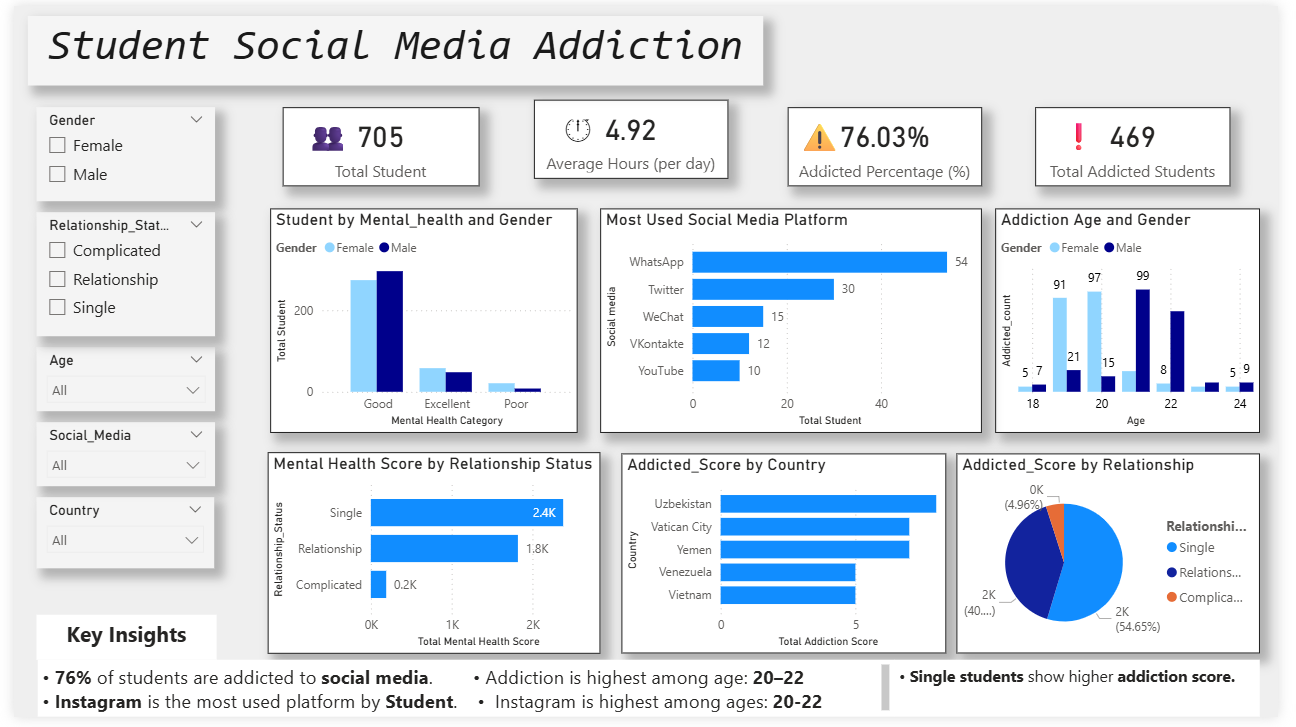

What the dashboard file says about the page in this screenshot:
{"tool":"powerbi","page":{"name":"Page 1","canvas":[1280,720],"ordinal":0},"visuals":[{"type":"card","fields":{"Values":["CountNonNull(Students_Social_Media_Addiction.Student_ID)"]},"box":[272.7,102.5,199.1,79.6],"z":0},{"type":"card","fields":{"Values":["Students_Social_Media_Addiction.Average _hours"]},"box":[526,95.3,196.6,79.6],"z":1000},{"type":"card","fields":{"Values":["Students_Social_Media_Addiction.Addicted_count"]},"box":[1033.9,102.5,197.9,79.6],"z":2000},{"type":"card","fields":{"Values":["Students_Social_Media_Addiction.Addicted Percentage"]},"box":[783,102.5,196.6,79.6],"z":3000},{"type":"textbox","box":[13.8,10,745,70],"z":4000},{"type":"slicer","fields":{"Values":["Count_of_gender.Gender"]},"box":[22.9,102.5,181,95.3],"z":5000},{"type":"clusteredColumnChart","title":"Addiction Age and Gender","fields":{"Y":["Students_Social_Media_Addiction.Addicted_count"],"Category":["Students_Social_Media_Addiction.Age"],"Series":["Students_Social_Media_Addiction.Gender"]},"box":[994.1,205.1,267.8,226.8],"z":6000},{"type":"clusteredBarChart","title":" Most Used Social Media Platform","fields":{"Category":["Students_Social_Media_Addiction.Most_Used_Platform"],"Y":["CountNonNull(Students_Social_Media_Addiction.Student_ID)"]},"box":[593.6,205.1,386.1,226.8],"z":7000},{"type":"clusteredColumnChart","title":"Student by Mental_health and Gender","fields":{"Category":["Students_Social_Media_Addiction.Mental_health_category"],"Series":["Students_Social_Media_Addiction.Gender"],"Y":["CountNonNull(Students_Social_Media_Addiction.Student_ID)"]},"box":[259.4,205.1,311.3,226.8],"z":8000},{"type":"clusteredBarChart","title":"Mental Health Score by Relationship Status","fields":{"Category":["Students_Social_Media_Addiction.Relationship_Status"],"Y":["Sum(Students_Social_Media_Addiction.Mental_Health_Score)"]},"box":[257,452.4,336.6,203.9],"z":9000},{"type":"clusteredBarChart","title":"Addicted_Score by Country","fields":{"Category":["Students_Social_Media_Addiction.Country"],"Y":["Sum(Students_Social_Media_Addiction.Addicted_Score)"]},"box":[614.8,452.8,365,203.1],"z":10000},{"type":"slicer","fields":{"Values":["Students_Social_Media_Addiction.Age"]},"box":[22.9,345,181,65.1],"z":11000},{"type":"slicer","fields":{"Values":["Students_Social_Media_Addiction.Relationship_Status"]},"box":[22.9,208.7,181,125.5],"z":12000},{"type":"slicer","fields":{"Values":["Students_Social_Media_Addiction.Most_Used_Platform"]},"box":[22.9,421,181,65.1],"z":13000},{"type":"pieChart","title":"Addicted_Score by Relationship","fields":{"Category":["Students_Social_Media_Addiction.Relationship_Status"],"Y":["Sum(Students_Social_Media_Addiction.Addicted_Score)"]},"box":[994.1,452.4,267.8,203.9],"z":14000},{"type":"slicer","fields":{"Values":["Students_Social_Media_Addiction.Country"]},"box":[22.9,497.1,179.8,72.4],"z":15000},{"type":"card","fields":{"Values":["Count_of_gender.Student Icon"]},"box":[284.7,113.4,67.6,53.1],"z":16000},{"type":"card","fields":{"Values":["Count_of_gender.Clock Icon"]},"box":[526,95.3,89.3,65.1],"z":17000},{"type":"card","fields":{"Values":["Count_of_gender.Warning Icon"]},"box":[783,113.4,65.1,56.7],"z":18000},{"type":"card","fields":{"Values":["Count_of_gender.C_Warning"]},"box":[1033.9,113.4,89.3,53.1],"z":19000},{"type":"textbox","box":[22.9,616.5,182.2,45.8],"z":20000},{"type":"textbox","box":[24.1,662.3,867.4,57.9],"z":21000},{"type":"textbox","box":[891.6,662.3,370.4,57.9],"z":22000}]}

Visuals, with their boxes in screenshot pixels (x1, y1, x2, y2), scaled from the page's 1280x720 canvas onto the 1296x727 screenshot:
card - CountNonNull(Students_Social_Media_Addiction.Student_ID): <bbox>276, 103, 478, 184</bbox>
card - Students_Social_Media_Addiction.Average _hours: <bbox>533, 96, 732, 177</bbox>
card - Students_Social_Media_Addiction.Addicted_count: <bbox>1047, 103, 1247, 184</bbox>
card - Students_Social_Media_Addiction.Addicted Percentage: <bbox>793, 103, 992, 184</bbox>
textbox: <bbox>14, 10, 768, 81</bbox>
slicer - Count_of_gender.Gender: <bbox>23, 103, 206, 200</bbox>
"Addiction Age and Gender" clusteredColumnChart: <bbox>1007, 207, 1278, 436</bbox>
" Most Used Social Media Platform" clusteredBarChart: <bbox>601, 207, 992, 436</bbox>
"Student by Mental_health and Gender" clusteredColumnChart: <bbox>263, 207, 578, 436</bbox>
"Mental Health Score by Relationship Status" clusteredBarChart: <bbox>260, 457, 601, 663</bbox>
"Addicted_Score by Country" clusteredBarChart: <bbox>622, 457, 992, 662</bbox>
slicer - Students_Social_Media_Addiction.Age: <bbox>23, 348, 206, 414</bbox>
slicer - Students_Social_Media_Addiction.Relationship_Status: <bbox>23, 211, 206, 337</bbox>
slicer - Students_Social_Media_Addiction.Most_Used_Platform: <bbox>23, 425, 206, 491</bbox>
"Addicted_Score by Relationship" pieChart: <bbox>1007, 457, 1278, 663</bbox>
slicer - Students_Social_Media_Addiction.Country: <bbox>23, 502, 205, 575</bbox>
card - Count_of_gender.Student Icon: <bbox>288, 115, 357, 168</bbox>
card - Count_of_gender.Clock Icon: <bbox>533, 96, 623, 162</bbox>
card - Count_of_gender.Warning Icon: <bbox>793, 115, 859, 172</bbox>
card - Count_of_gender.C_Warning: <bbox>1047, 115, 1137, 168</bbox>
textbox: <bbox>23, 622, 208, 669</bbox>
textbox: <bbox>24, 669, 903, 726</bbox>
textbox: <bbox>903, 669, 1278, 726</bbox>
